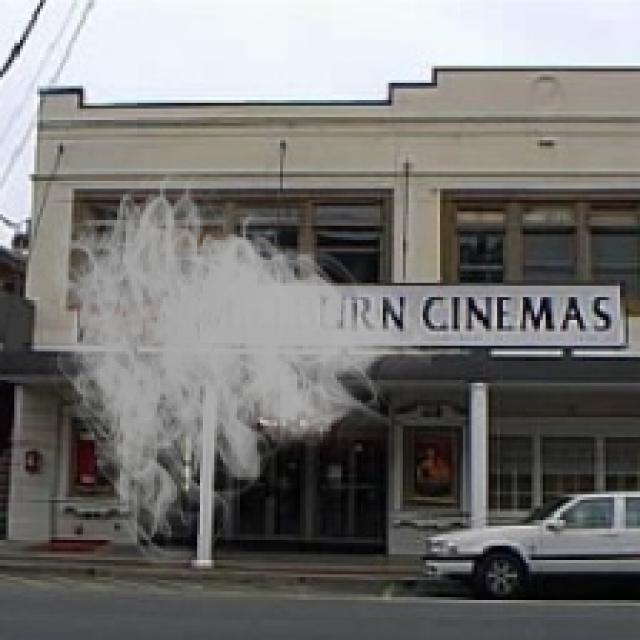Smoke: (29, 157, 432, 574)
